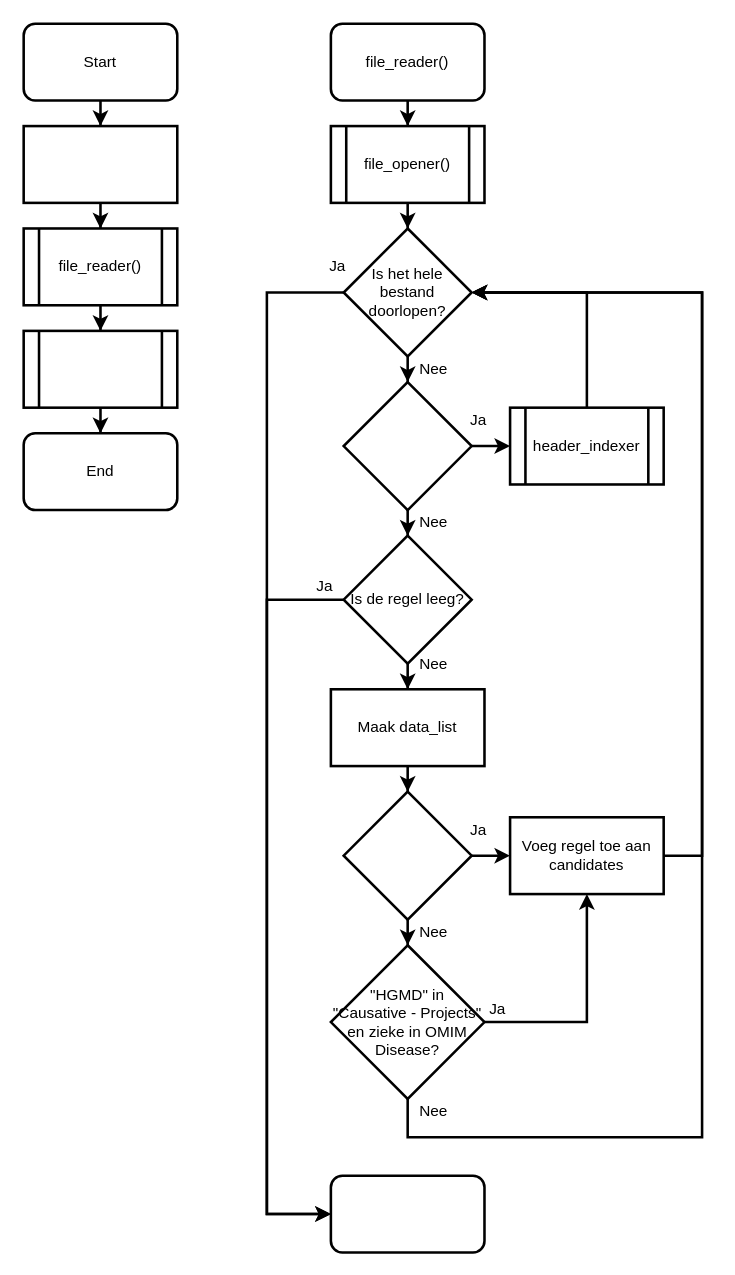
Some shapes in this 735 by 1275 pixel diagram are drawn without their labels. The shapes that lost their labels are listed below. From the top down, each one's box as (x1, y1, x2, y2) in pixels, then its label:
(22, 124, 178, 204): condition_list = lijst met conditions uit GUI
(22, 329, 178, 408): file_writer()
(342, 380, 472, 511): Is dit de eerste regel?
(342, 790, 472, 920): Returnt filer_func() True?
(329, 1174, 485, 1253): Return header_line, candidates
